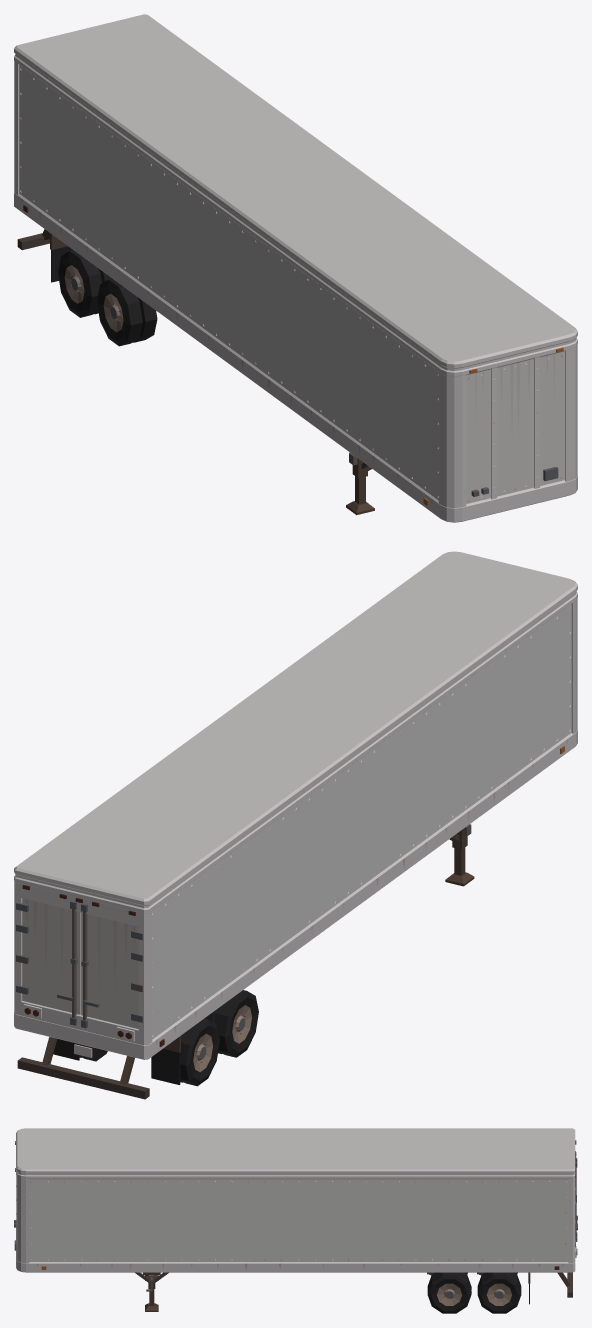
File: box-trailer-2743e6.glb
The picture shows the model from 3 angles, top to bottom: view 1: azimuth 30°, elevation 25°; view 2: azimuth 150°, elevation 25°; view 3: azimuth 270°, elevation 25°; orthographic projection. The views are drawn at different scales.
Parts seen in each view (by area): view 1: body, wheel-1r-mesh, wheel-2r-mesh; view 2: body, wheel-1r-mesh, wheel-2r-mesh; view 3: body, wheel-1l-mesh, wheel-2l-mesh.
Part boxes in pixels (x1,y1,x2,y2): body: [14, 14, 577, 522]; wheel-1r-mesh: [96, 278, 157, 346]; wheel-2r-mesh: [57, 250, 111, 317]; body: [14, 551, 577, 1099]; wheel-1r-mesh: [204, 990, 258, 1057]; wheel-2r-mesh: [180, 1018, 219, 1086]; body: [14, 1128, 577, 1311]; wheel-1l-mesh: [427, 1272, 471, 1313]; wheel-2l-mesh: [477, 1272, 521, 1313].
Size of the model in its own units: 2.54 by 4 by 14.12.
